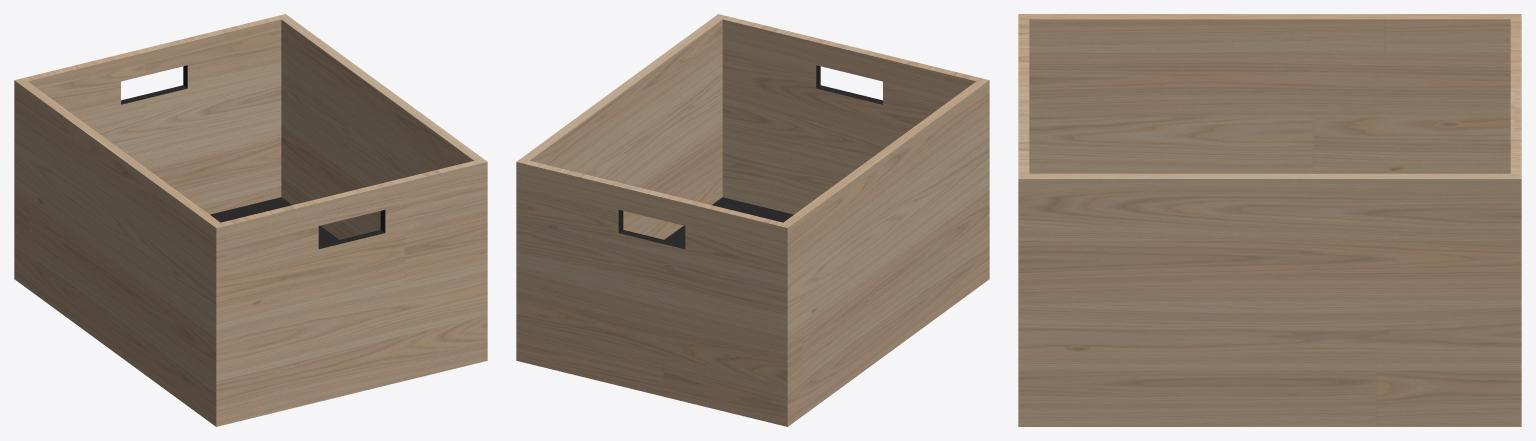
Rendered from CajonJuguetes.fbx.
3 renders of one model, left to right at view 1: azimuth 30°, elevation 25°; view 2: azimuth 150°, elevation 25°; view 3: azimuth 270°, elevation 25°, orthographic. The views are drawn at different scales.
Parts seen in each view (by area): view 1: Cajon; view 2: Cajon; view 3: Cajon.
Part boxes in pixels (<box>): Cajon: <box>14,14,487,426</box>; Cajon: <box>516,14,989,426</box>; Cajon: <box>1018,14,1521,426</box>.
Bounding box in the file's own units: 50 × 35 × 64.45.
2 materials, 2 textured.
